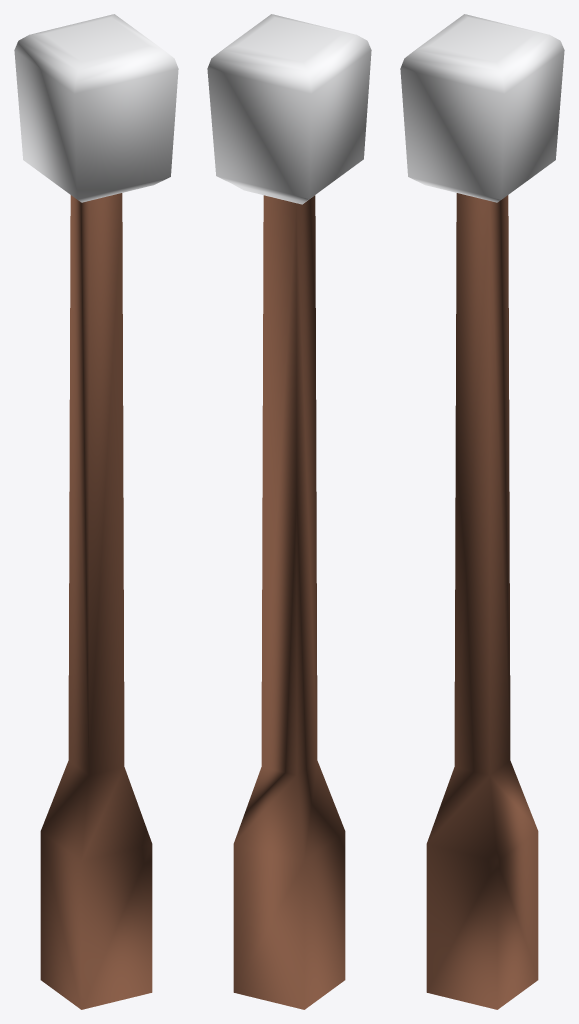
Rendered from Logistico.glb.
3 views of the same model, side by side, from view 1: azimuth 30°, elevation 25°; view 2: azimuth 150°, elevation 25°; view 3: azimuth 330°, elevation 25° (orthographic).
Parts seen in each view (by area): view 1: power_pole; view 2: power_pole; view 3: power_pole.
Boxes of the visible parts, box(x1,y1,x2,y2) form: power_pole: box(14, 14, 178, 1009); power_pole: box(207, 14, 371, 1009); power_pole: box(400, 14, 564, 1009).
Size of the model in its own units: 0.0734 by 0.6374 by 0.0734.
